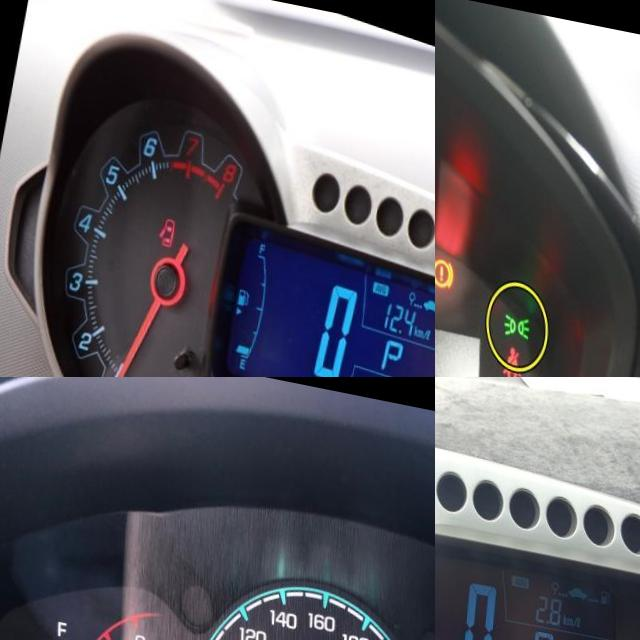Doors: (158, 206, 177, 241)
SideLamp: (506, 298, 532, 326)
